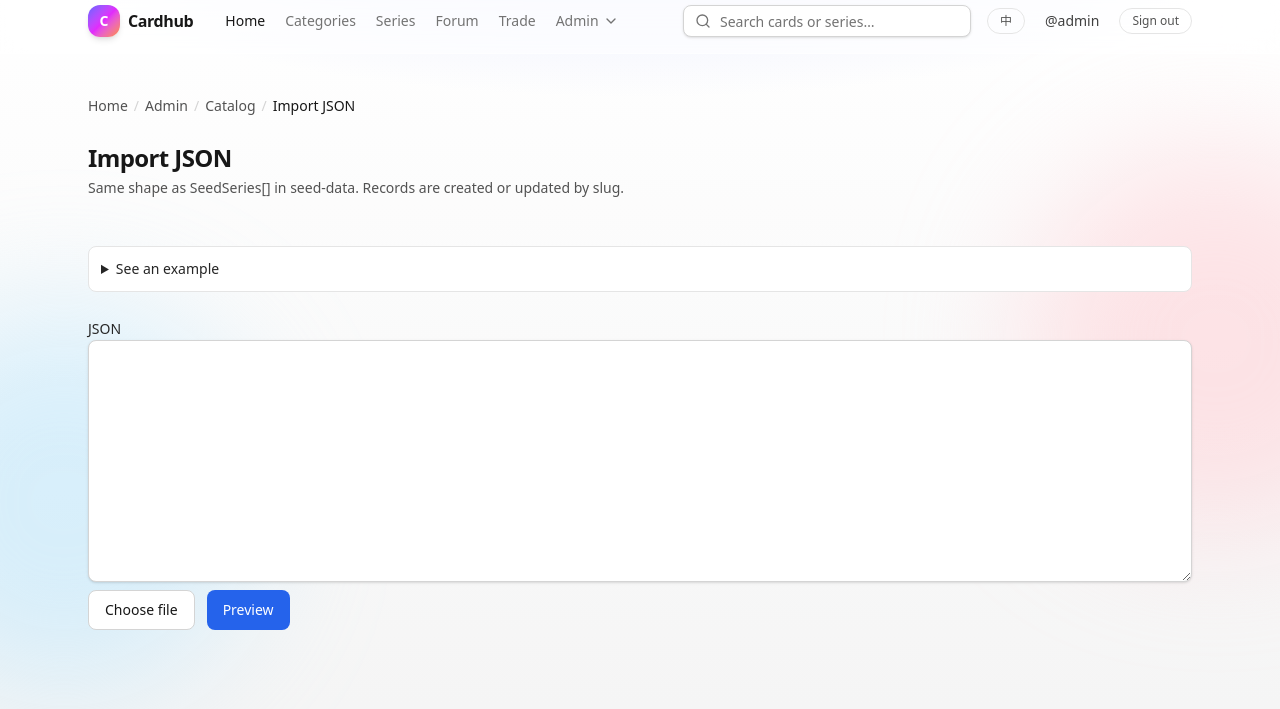
it: catalog import › shows the English message for a known code and the server message for an unknown code
The width and height of the screenshot is (1280, 709).
Click the text box labelled "JSON" at (640, 461), box 88,340 -> 1192,582
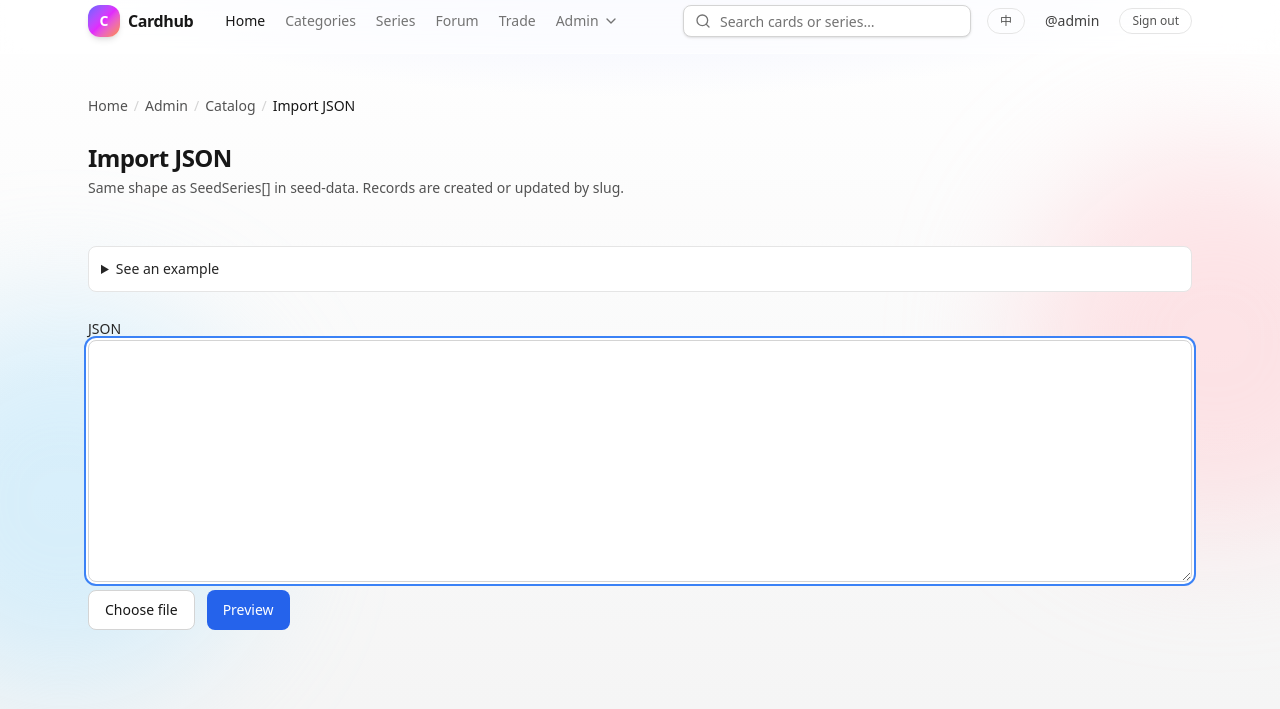
Type keys "[]"
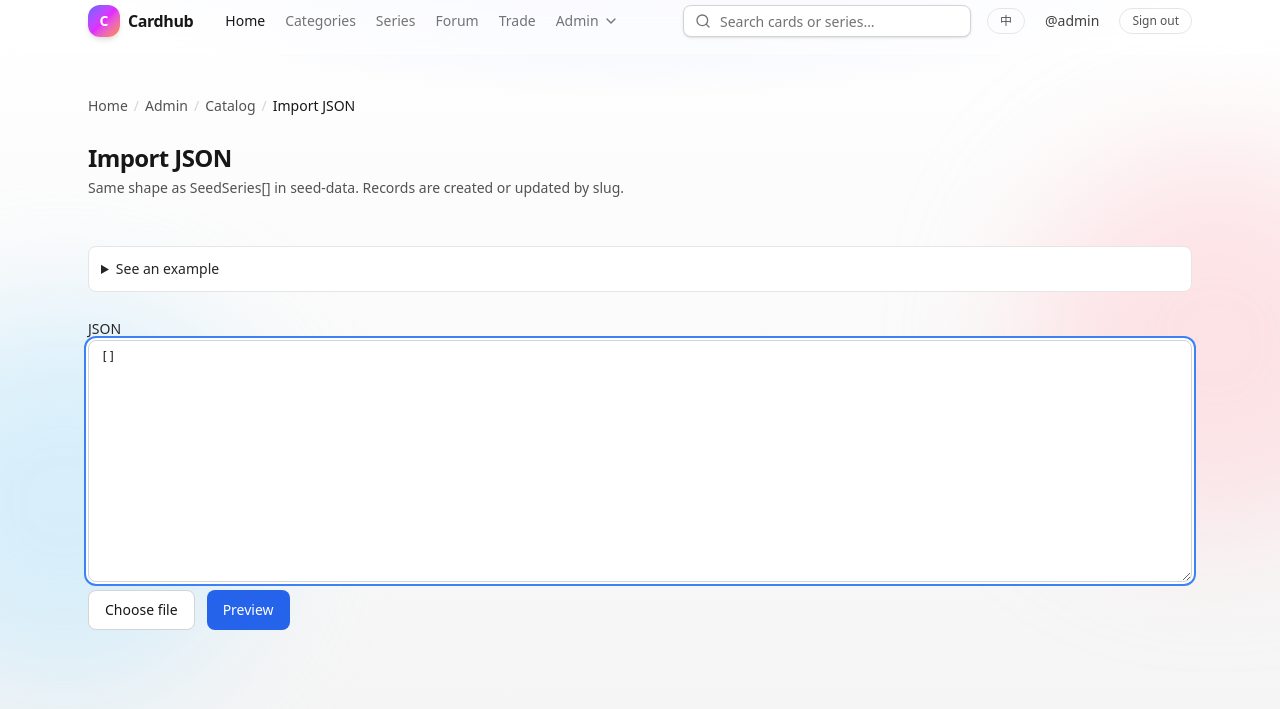
Click the button "Preview" at (248, 610), box 207,590 -> 290,630
(page scrolled)
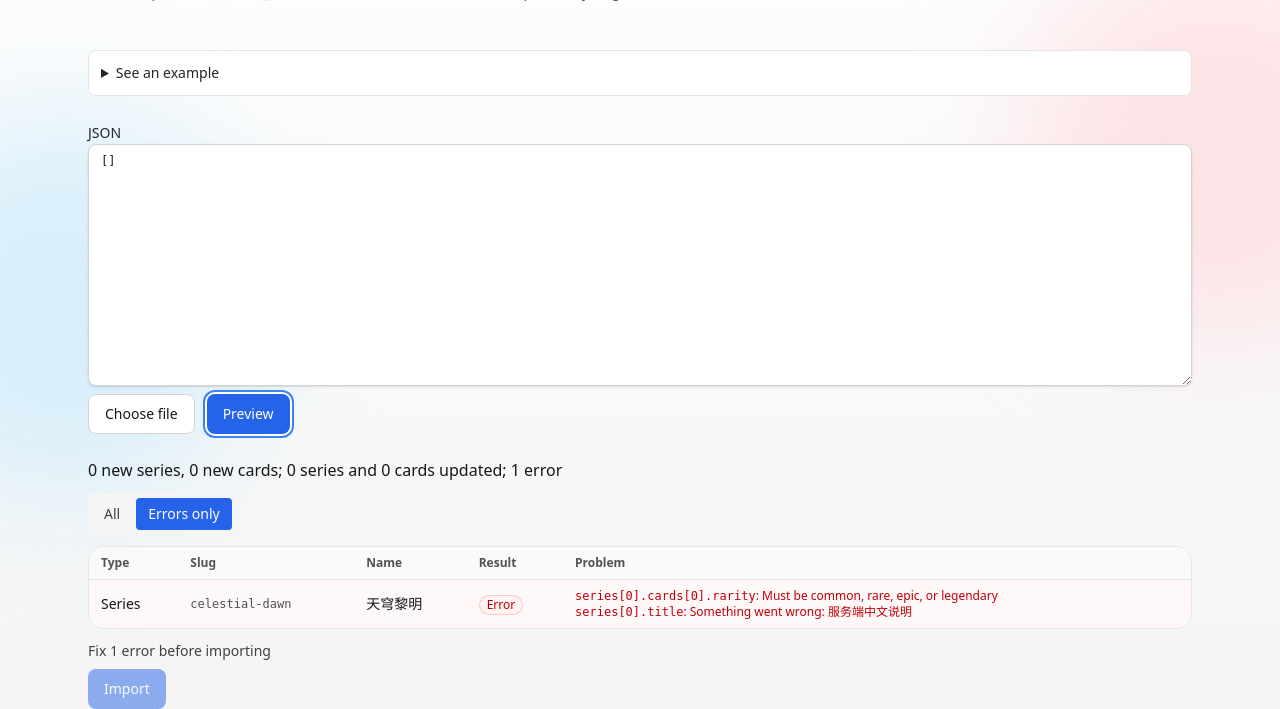
Check: the text "Must be common, rare, epic, or legendary" is shown, box 762,587 -> 998,604
Check: the text "series[0].title: Something went wrong: 服务端中文说明" is shown, box 575,603 -> 912,620
